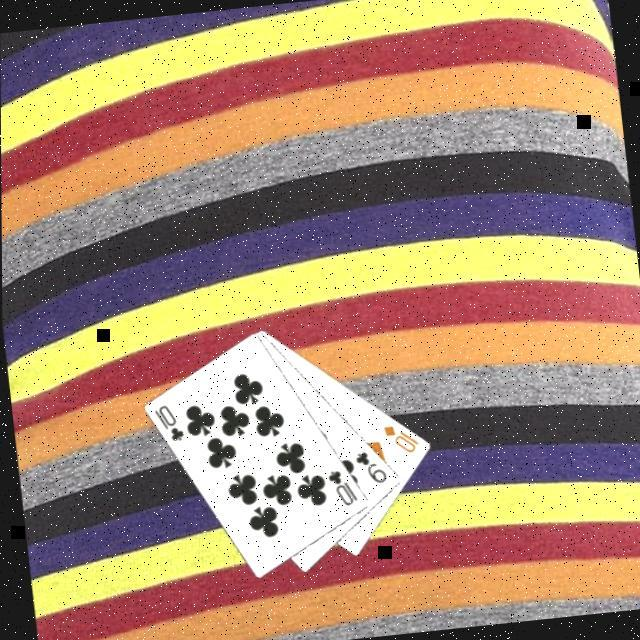10C: (147, 398, 185, 445), (321, 463, 358, 508)
10D: (376, 417, 420, 457)
9C: (348, 443, 388, 487)
